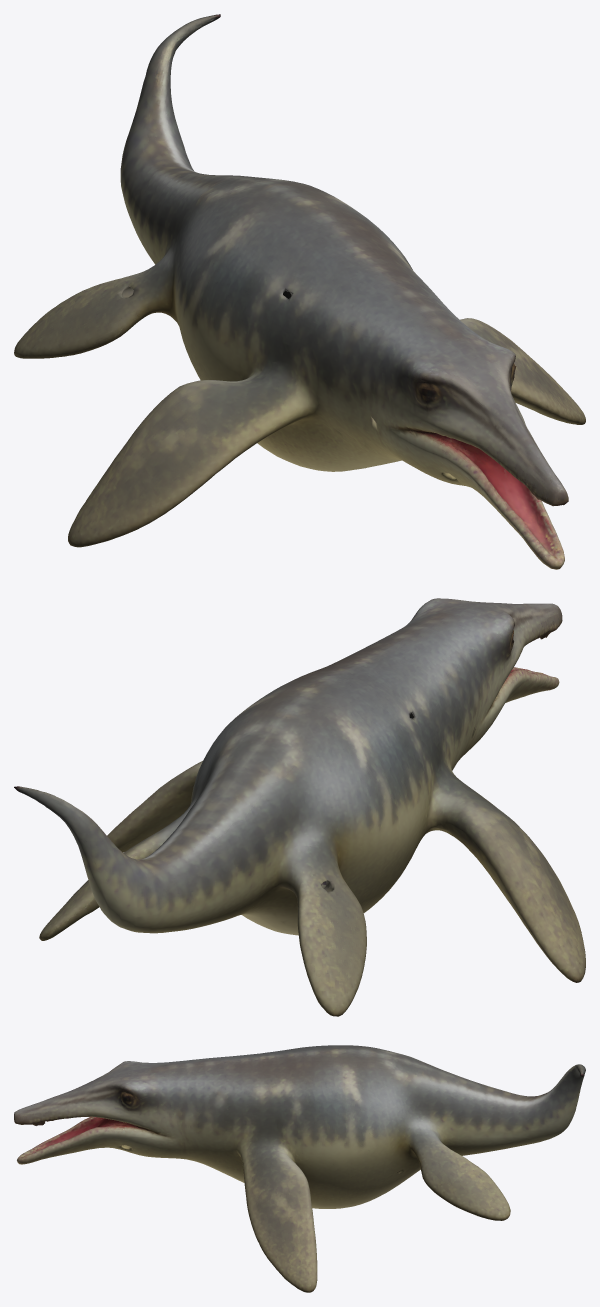
3 views of the same model, one above another, from view 1: azimuth 30°, elevation 25°; view 2: azimuth 150°, elevation 25°; view 3: azimuth 270°, elevation 25° (orthographic). The views are drawn at different scales.
Visible parts, largest first — view 1: world; view 2: world; view 3: world.
Part boxes in pixels (x1,y1,x2,y2): world: (14,14,585,569); world: (14,598,585,1016); world: (14,1045,585,1292).
Size of the model in its own units: 7.48 by 3.88 by 11.5.
1 material, 1 textured.
